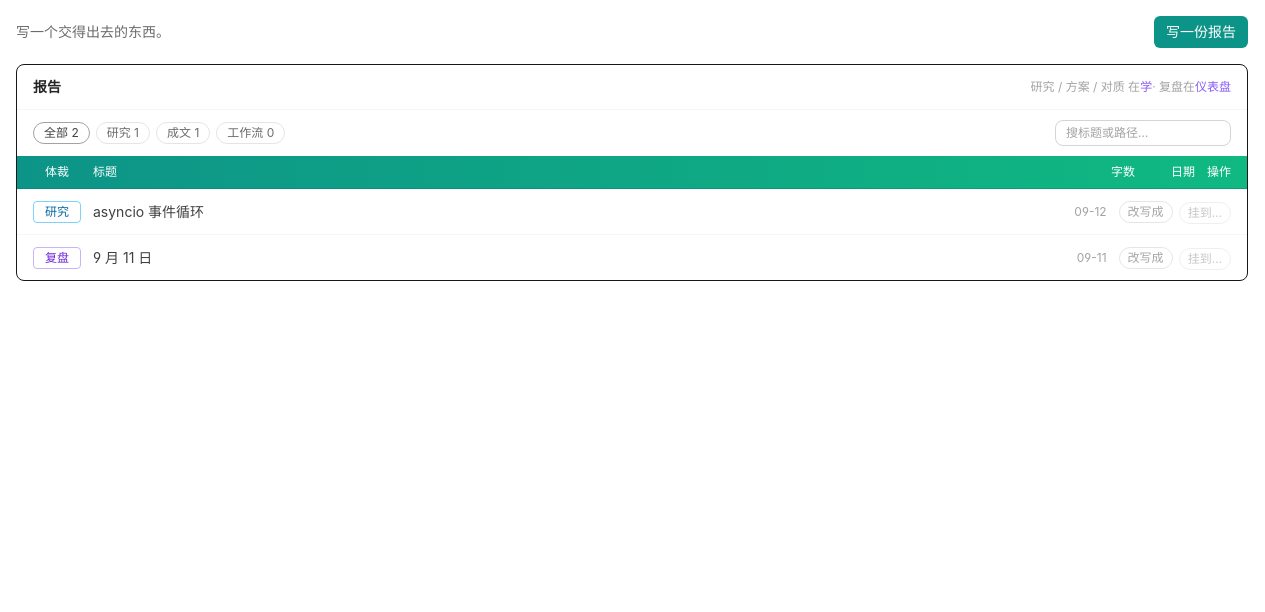
Scenario: WorkPage · 产出 › 改写成：拿这件产出当钉住材料，开交付流换体裁重写（J4）
Check: the text "asyncio 事件循环" is shown, box [93,202,204,220]
悬停才出现的动作——直接点它
Click the button "改写成" next to "09-12": (1146, 212) [1119,200,1173,222]
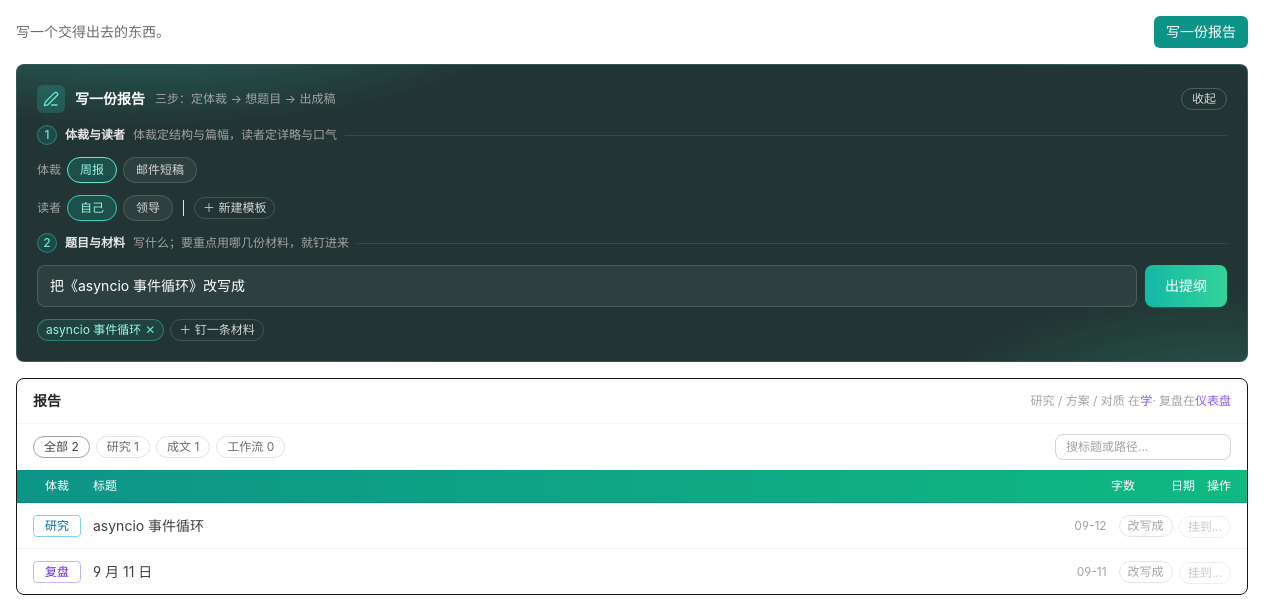
Check: the button "周报" is shown, box [67,157,117,183]
